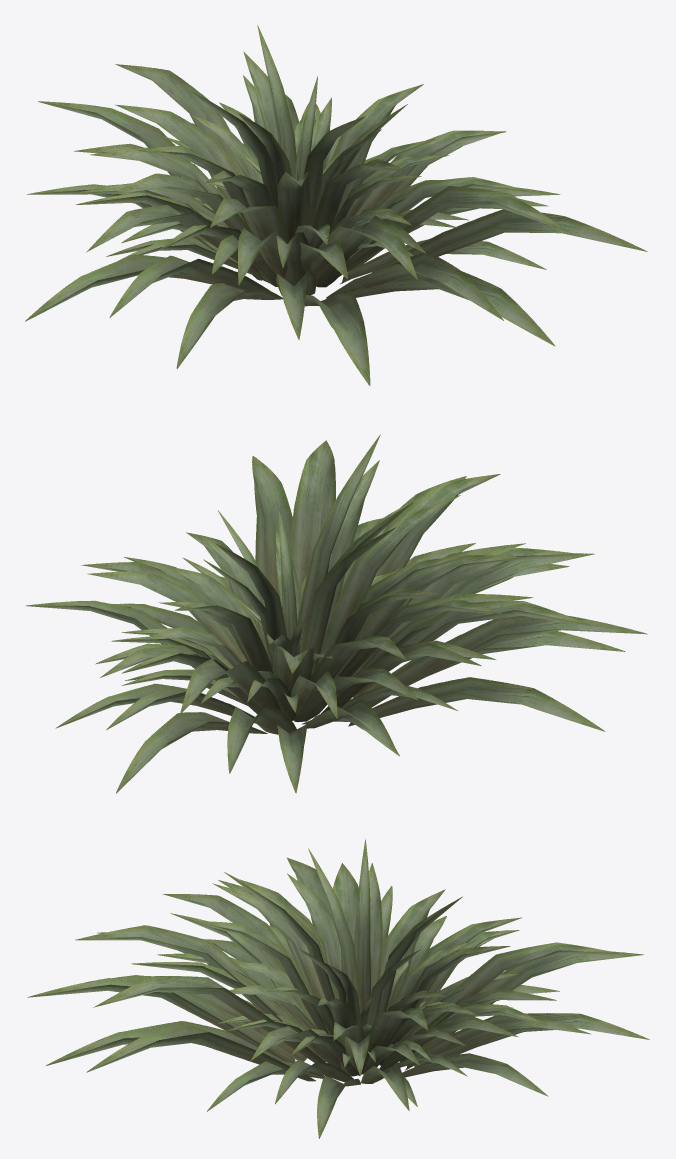
File: MB_American_Agave_02.fbx
3 renders of one model, top to bottom at view 1: azimuth 30°, elevation 25°; view 2: azimuth 150°, elevation 25°; view 3: azimuth 270°, elevation 25°, orthographic. The views are drawn at different scales.
Visible parts, largest first — view 1: MB_American_Agave_02_LOD0; view 2: MB_American_Agave_02_LOD0; view 3: MB_American_Agave_02_LOD0.
Part boxes in pixels (bbox=[...]): MB_American_Agave_02_LOD0: bbox=[25, 25, 647, 385]; MB_American_Agave_02_LOD0: bbox=[25, 434, 647, 793]; MB_American_Agave_02_LOD0: bbox=[27, 839, 649, 1138].
Size of what is drawn, in the model's own units: 294 by 117 by 342.
